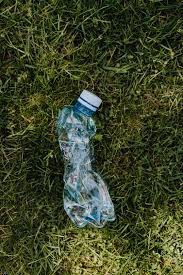plastic_bottle: (58, 88, 119, 227)
